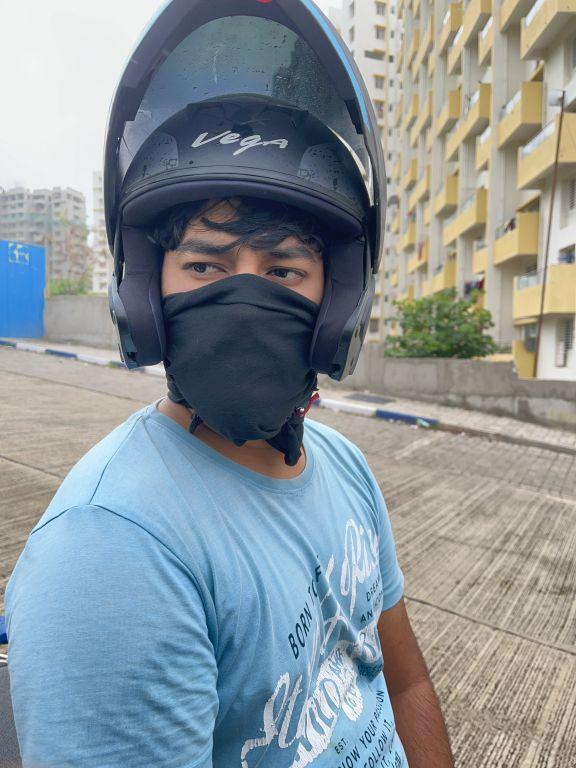helmet: (72, 0, 396, 455)
